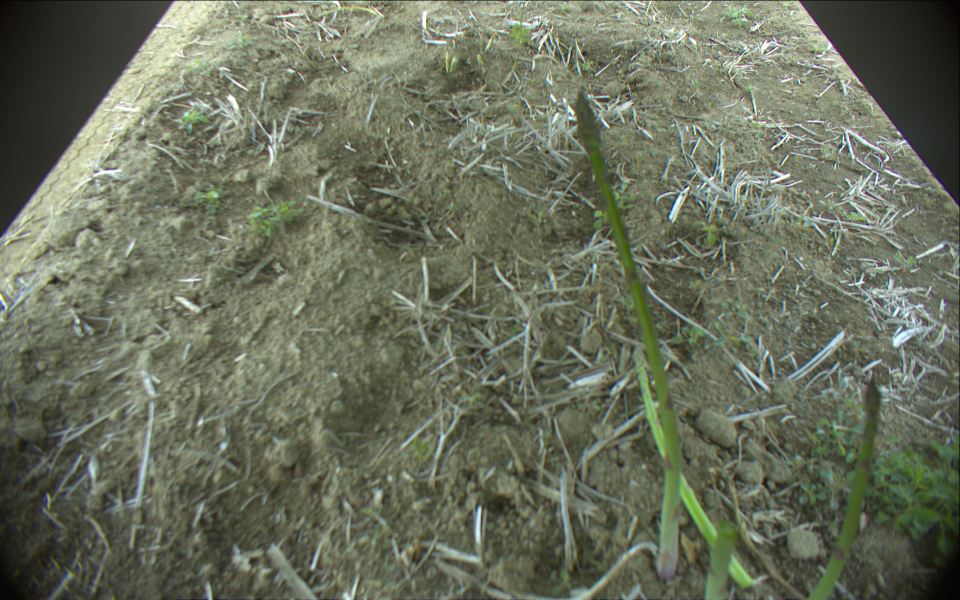aspa: (575, 91, 683, 577), (634, 345, 752, 584), (800, 376, 881, 600), (705, 521, 736, 600)
